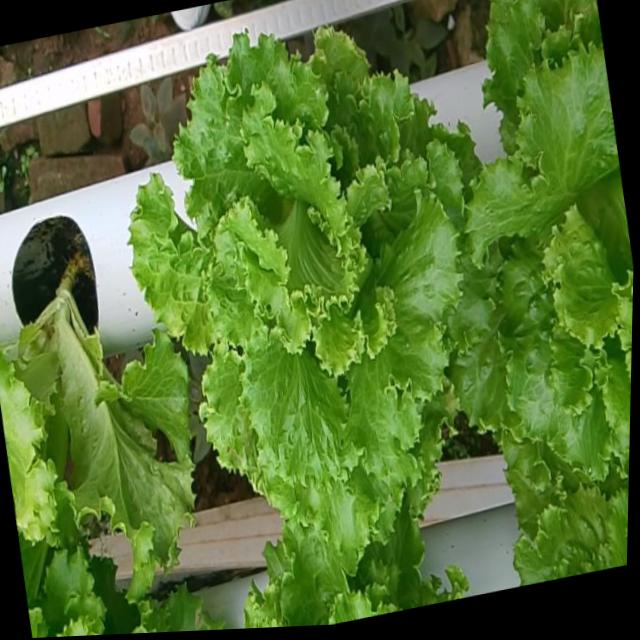Mature: (120, 20, 453, 542), (440, 23, 633, 471)
